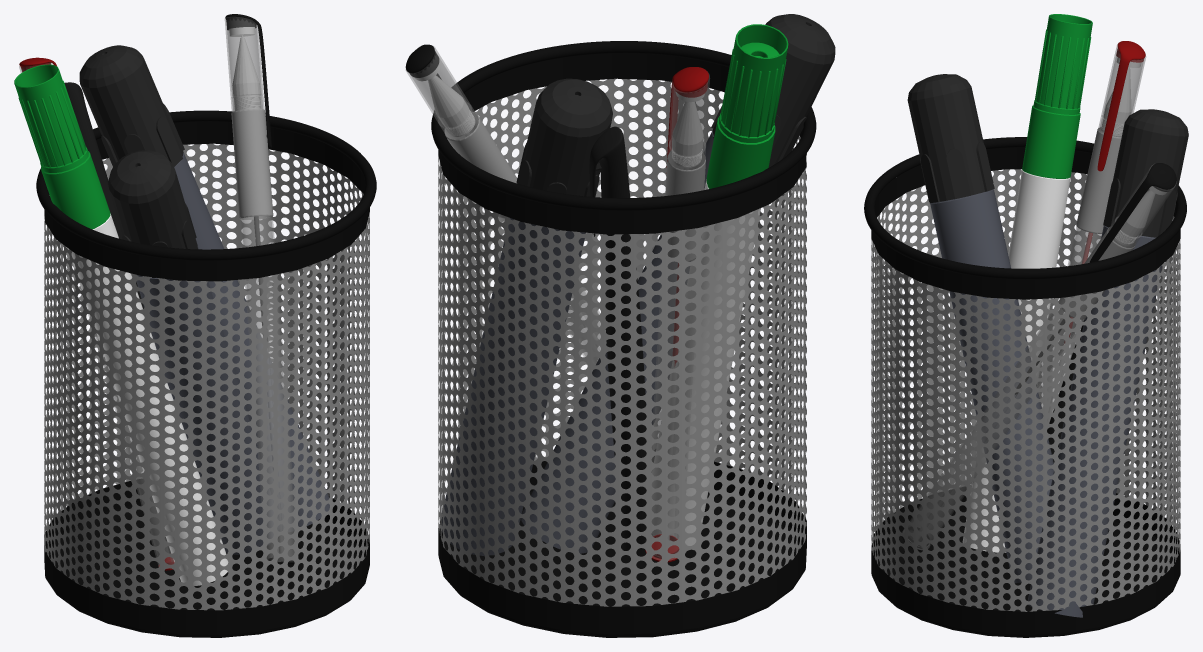
The model's file is pen holder.fbx.
3 renders of one model, left to right at view 1: azimuth 30°, elevation 25°; view 2: azimuth 150°, elevation 25°; view 3: azimuth 270°, elevation 25°, orthographic. The views are drawn at different scales.
Parts seen in each view (by area): view 1: Object008, Cylinder001, Object007, Object014, Cylinder030, Object001, Object009, Circle001, Object015, Cylinder024, Object013, Cylinder026 (+4 smaller); view 2: Object008, Cylinder001, Cylinder024, Circle001, Object009, Object007, Object001, Object004, Cylinder026, Cylinder030, Object015, Object014 (+6 smaller); view 3: Object008, Cylinder001, Cylinder030, Cylinder024, Object015, Object009, Object001, Object007, Circle001, Object014, Object004, Object002 (+6 smaller).
Part boxes in pixels (box(x1,y1,x2,y2)): Object008: box(44, 143, 369, 610); Cylinder001: box(44, 121, 369, 637); Object007: box(79, 45, 184, 166); Object014: box(225, 17, 298, 561); Cylinder030: box(136, 246, 278, 554); Object001: box(67, 213, 228, 586); Object009: box(14, 64, 110, 229); Circle001: box(36, 110, 376, 260); Object015: box(108, 150, 197, 277); Cylinder024: box(174, 153, 329, 531); Object013: box(231, 109, 273, 219); Cylinder026: box(64, 82, 153, 338); Object008: box(438, 78, 806, 606); Cylinder001: box(438, 53, 806, 637); Cylinder024: box(442, 218, 585, 555); Circle001: box(431, 41, 816, 210); Object009: box(706, 24, 788, 188); Object007: box(516, 78, 612, 196); Object001: box(652, 179, 760, 545); Object004: box(651, 74, 709, 560); Cylinder026: box(589, 126, 646, 554); Cylinder030: box(521, 131, 713, 553); Object015: box(711, 14, 835, 167); Object014: box(406, 45, 653, 448); Object008: box(871, 169, 1180, 611); Cylinder001: box(871, 147, 1180, 637); Cylinder030: box(930, 189, 1053, 583); Cylinder024: box(1027, 225, 1162, 617); Object015: box(907, 74, 994, 202); Object009: box(1022, 14, 1092, 178); Object001: box(962, 170, 1070, 552); Object007: box(1103, 109, 1188, 237); Circle001: box(864, 137, 1186, 279); Object014: box(902, 164, 1176, 549); Object004: box(1039, 44, 1145, 422); Object002: box(1076, 127, 1121, 233).
Size of the model in its own units: 111 by 176 by 105.
